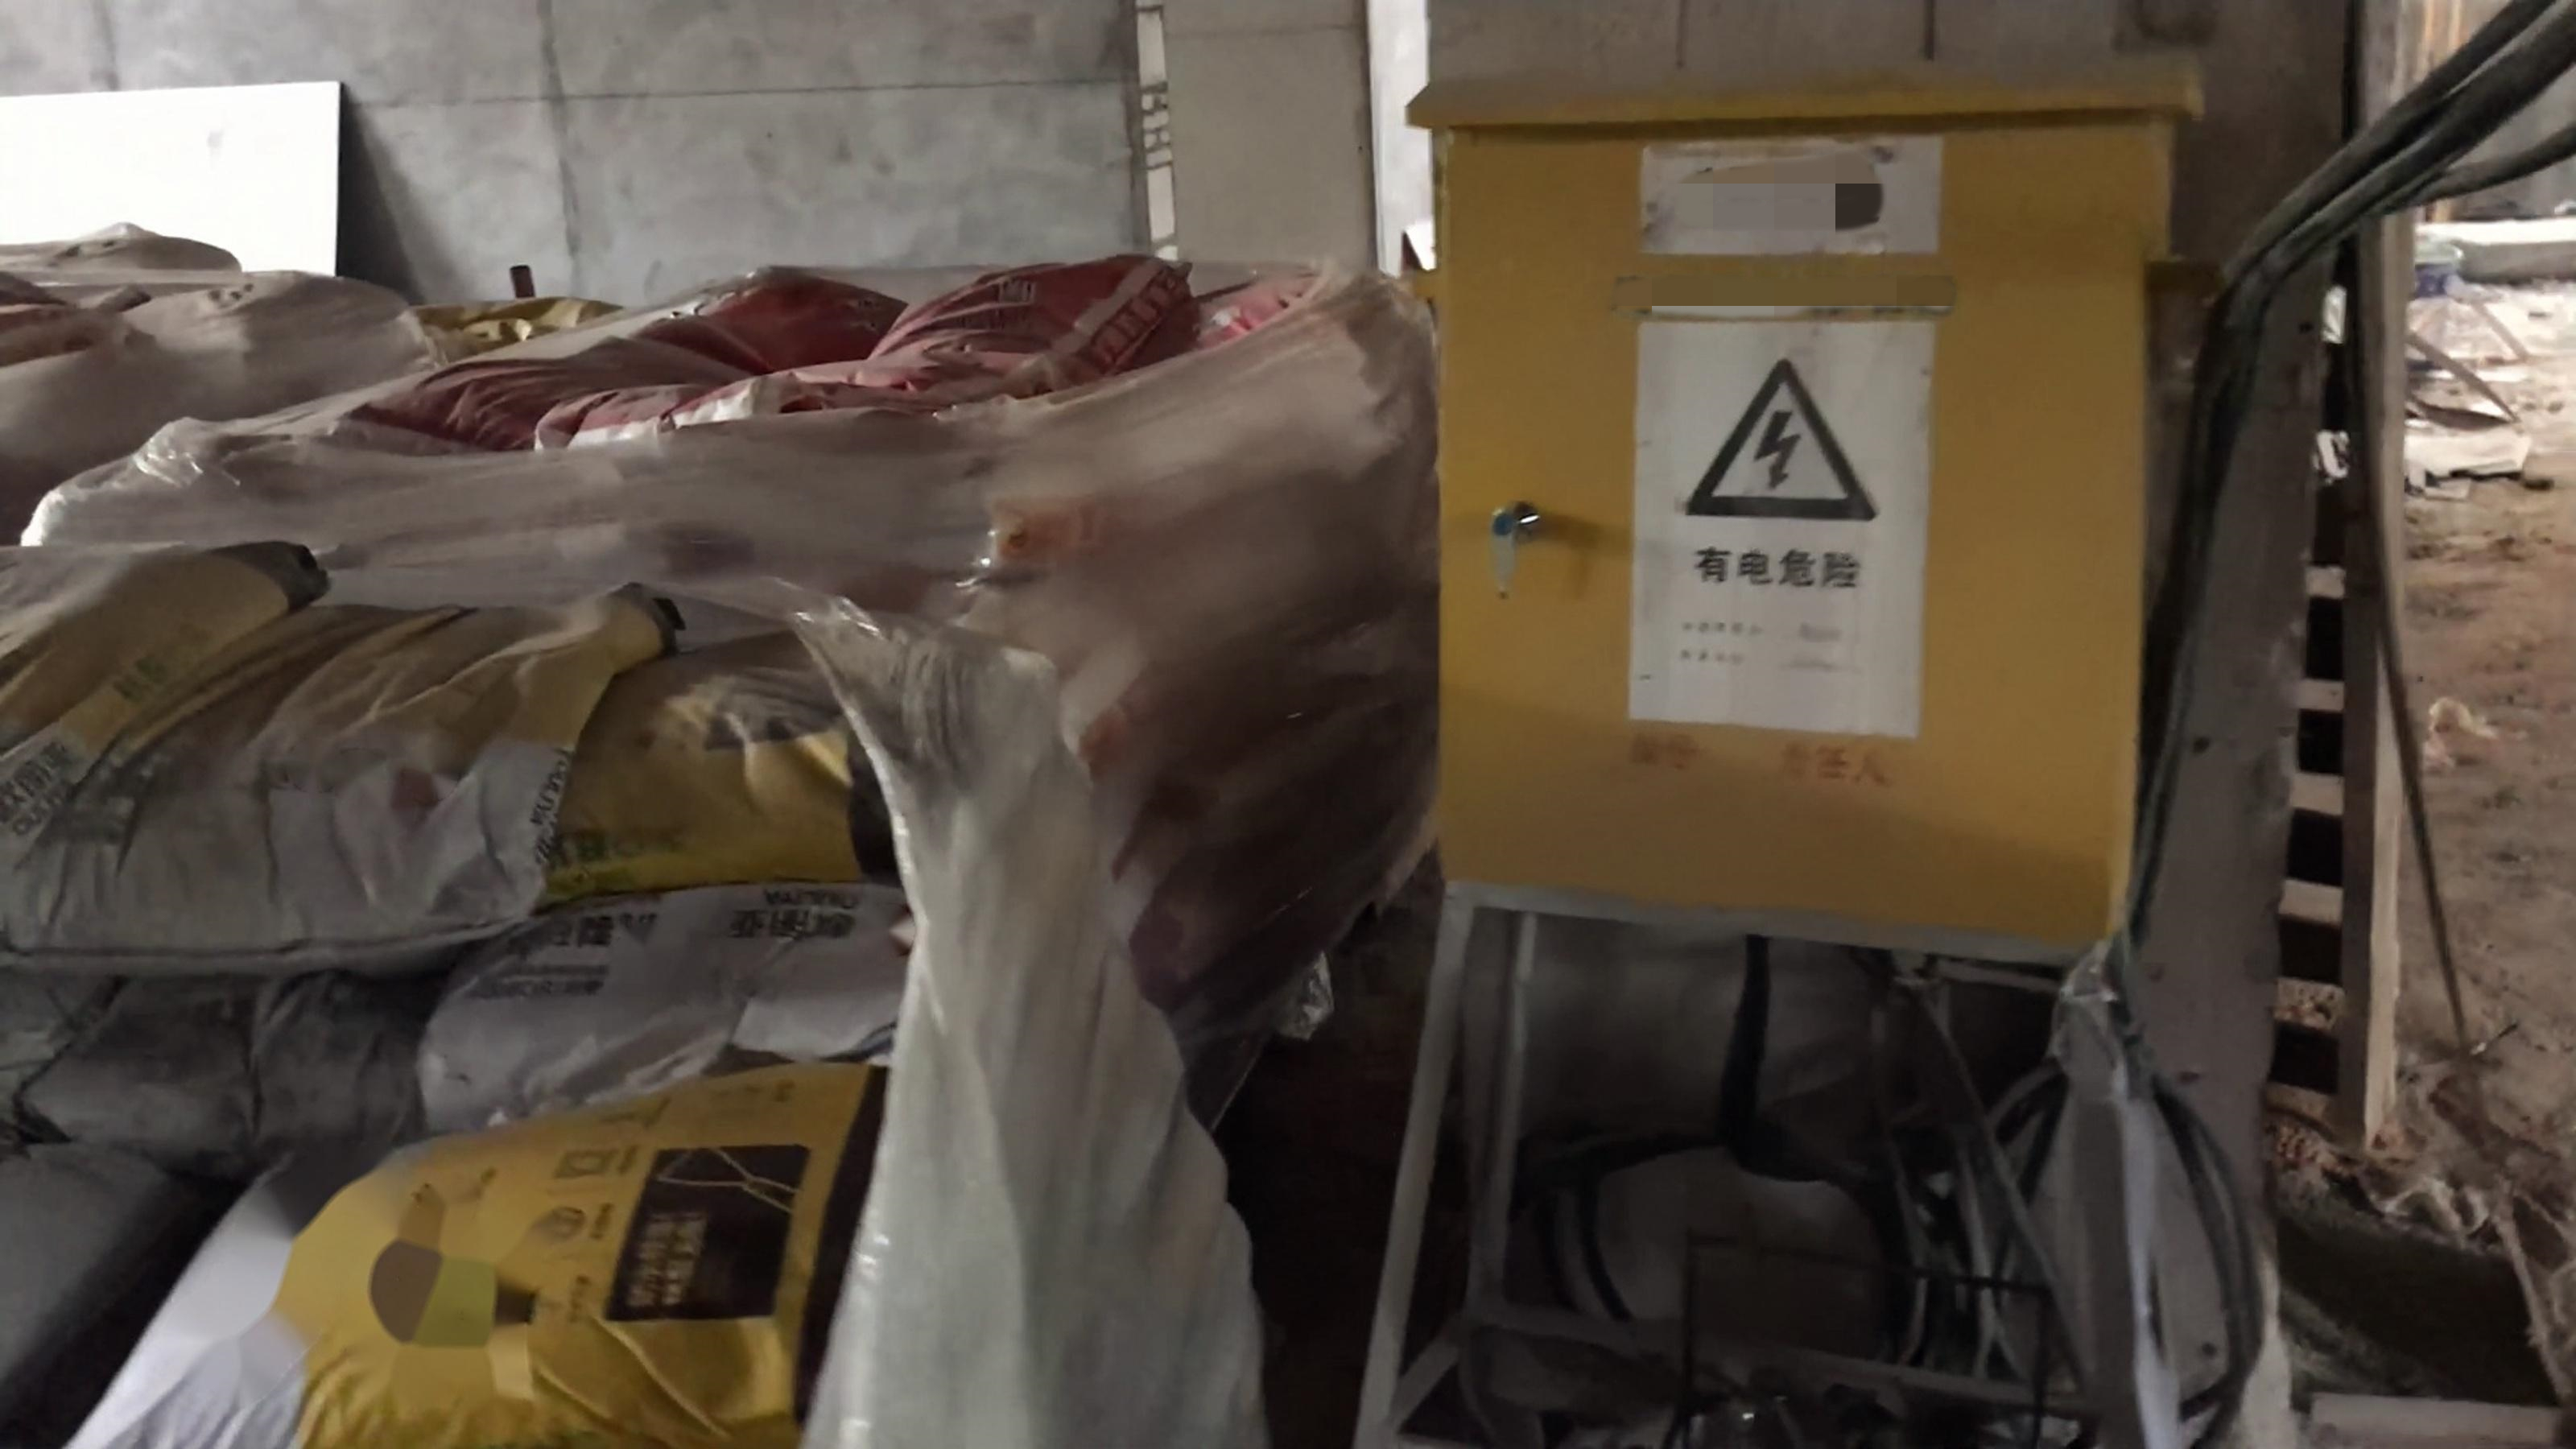ebox: (1382, 39, 2245, 1017)
